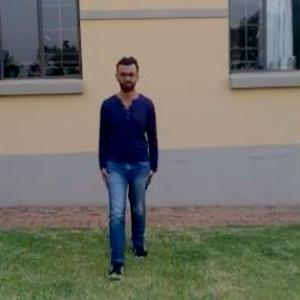follow: (88, 38, 164, 280)
